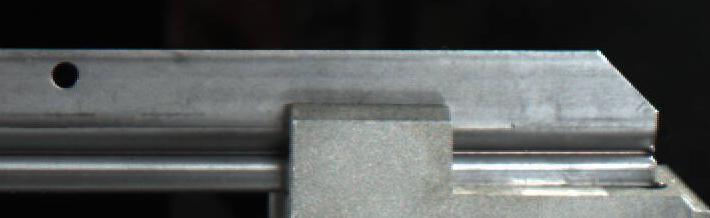cut: (469, 40, 667, 191)
holes: (49, 59, 81, 88)
